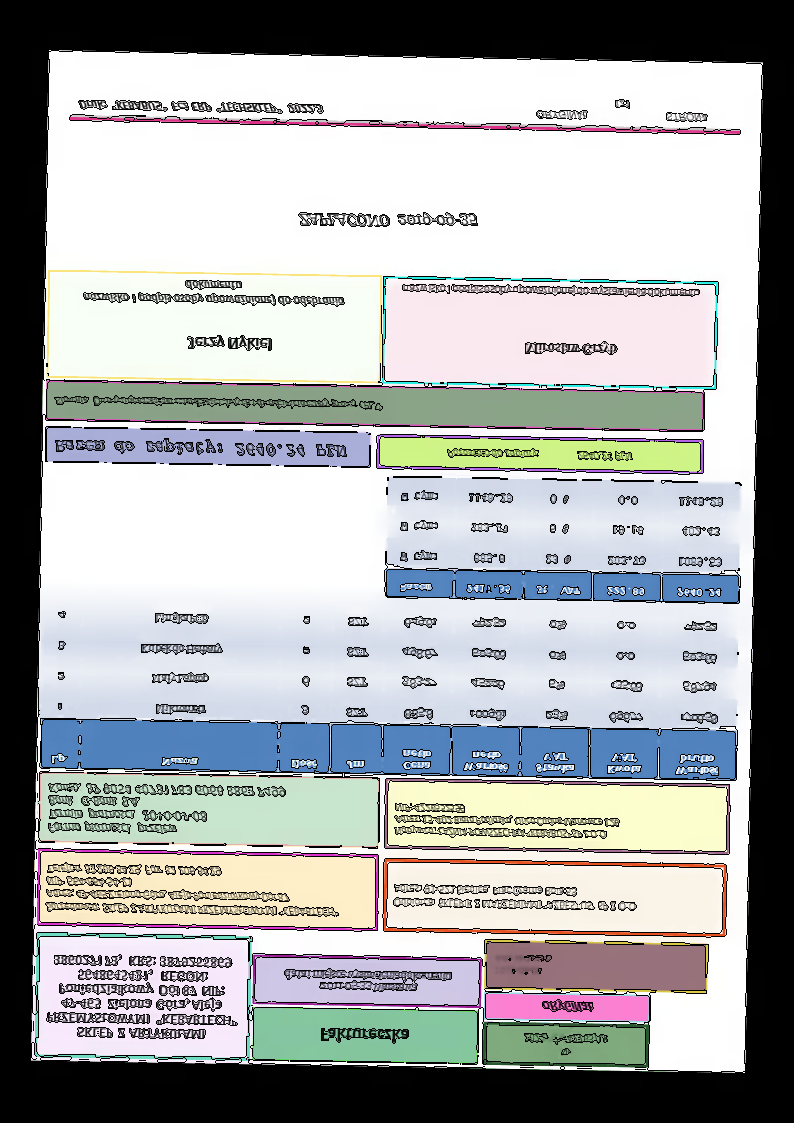Table: (38, 596, 741, 782), (384, 476, 742, 605)
TextBox: (43, 953, 241, 1043), (42, 860, 339, 919), (44, 780, 287, 838), (391, 801, 620, 842), (391, 882, 640, 915), (52, 391, 385, 412), (52, 437, 348, 460), (281, 967, 455, 997), (533, 97, 710, 124), (77, 98, 324, 117), (295, 208, 479, 231), (445, 446, 633, 463), (522, 1030, 611, 1061), (317, 1025, 410, 1046), (184, 333, 274, 353), (491, 951, 557, 978), (523, 340, 618, 357), (539, 999, 597, 1016)
